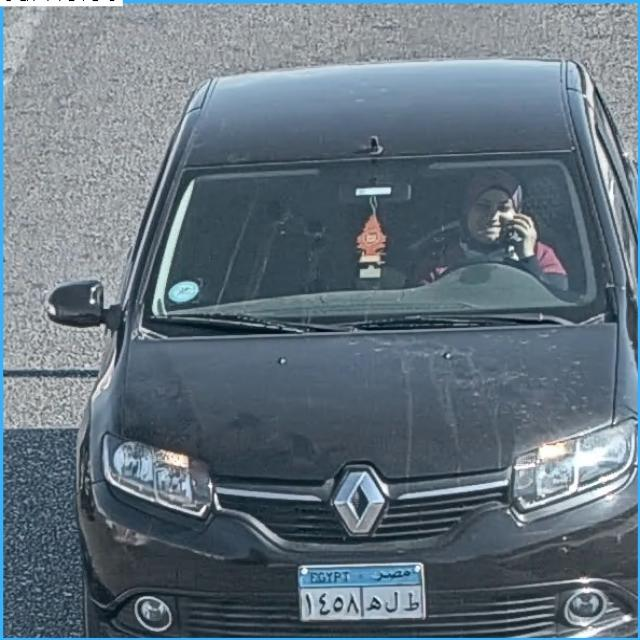windshield: (146, 164, 616, 320)
